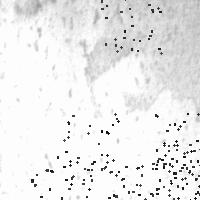pitted_surface: (2, 9, 185, 198), (57, 113, 117, 169), (101, 0, 160, 52), (152, 113, 200, 172), (104, 165, 163, 200), (152, 159, 200, 200), (31, 169, 91, 200), (170, 144, 200, 200)
